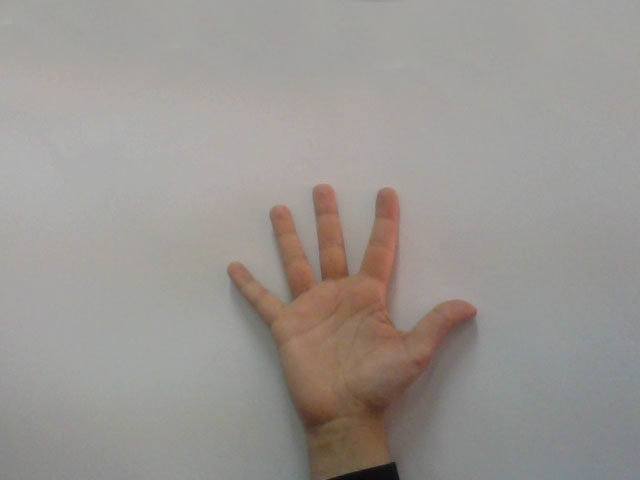hand: (214, 174, 492, 411)
